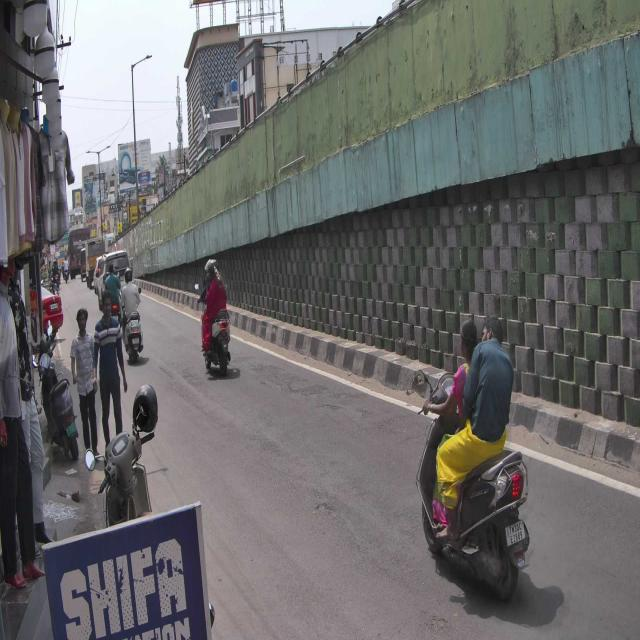double_rider: (408, 307, 534, 601)
